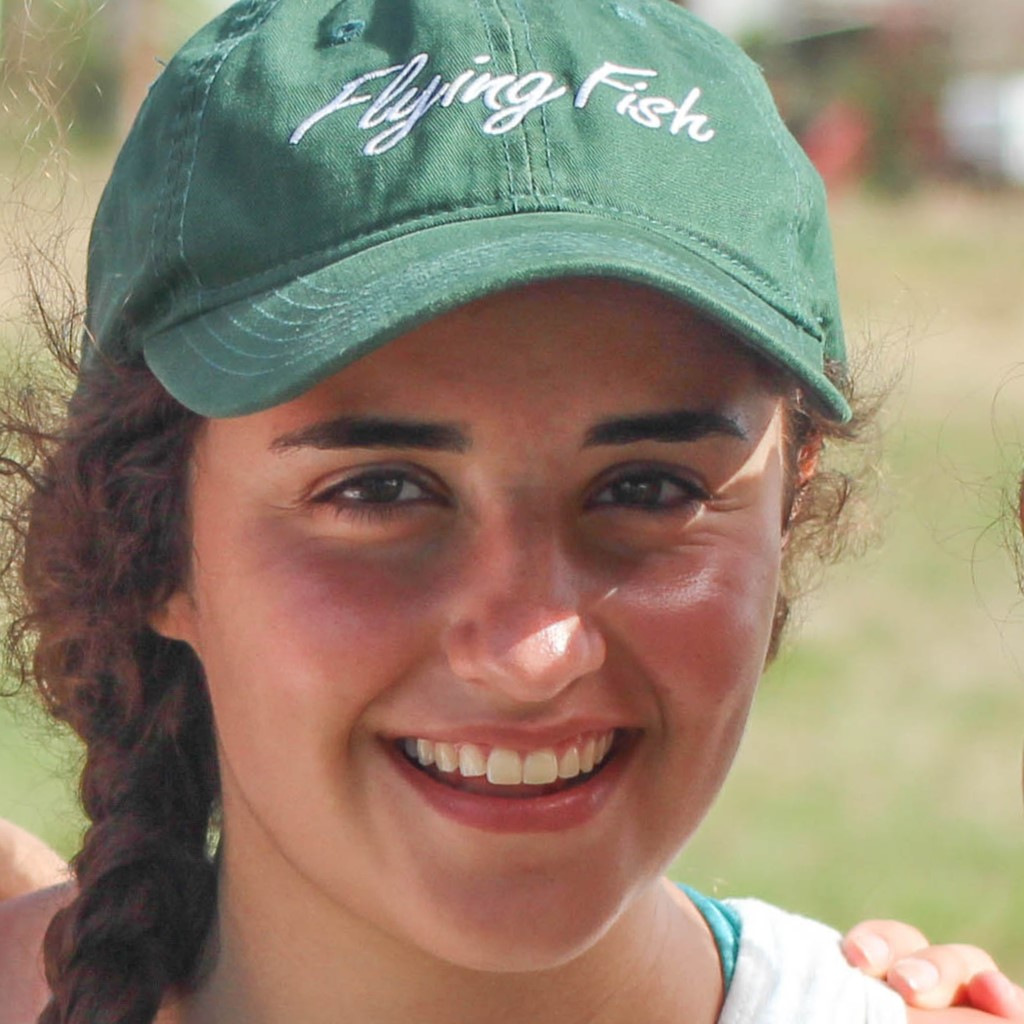sin_mascara: (167, 167, 783, 1003)
